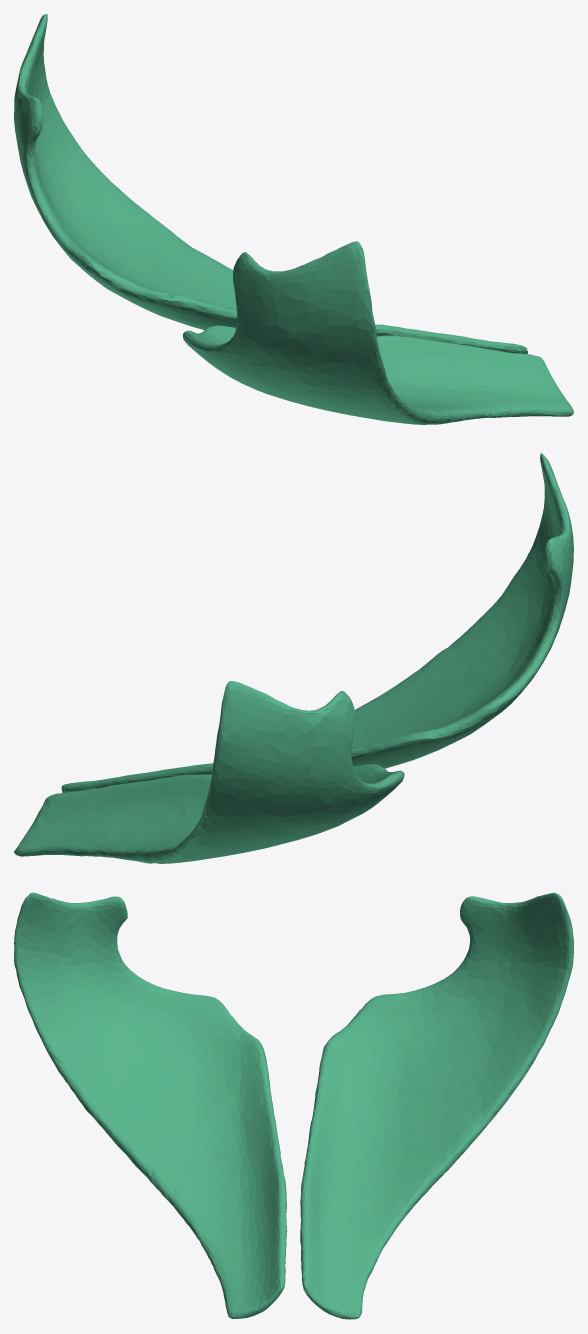
The picture shows the model from 3 angles, top to bottom: view 1: azimuth 30°, elevation 25°; view 2: azimuth 150°, elevation 25°; view 3: azimuth 270°, elevation 25°; orthographic projection. The views are drawn at different scales.
Parts seen in each view (by area): view 1: 656.obj; view 2: 656.obj; view 3: 656.obj.
Part boxes in pixels (box(x1,y1,x2,y2)): 656.obj: box(14, 14, 573, 424); 656.obj: box(14, 453, 573, 863); 656.obj: box(14, 892, 573, 1319).
Size of the model in its own units: 4109 by 3286 by 5774.
